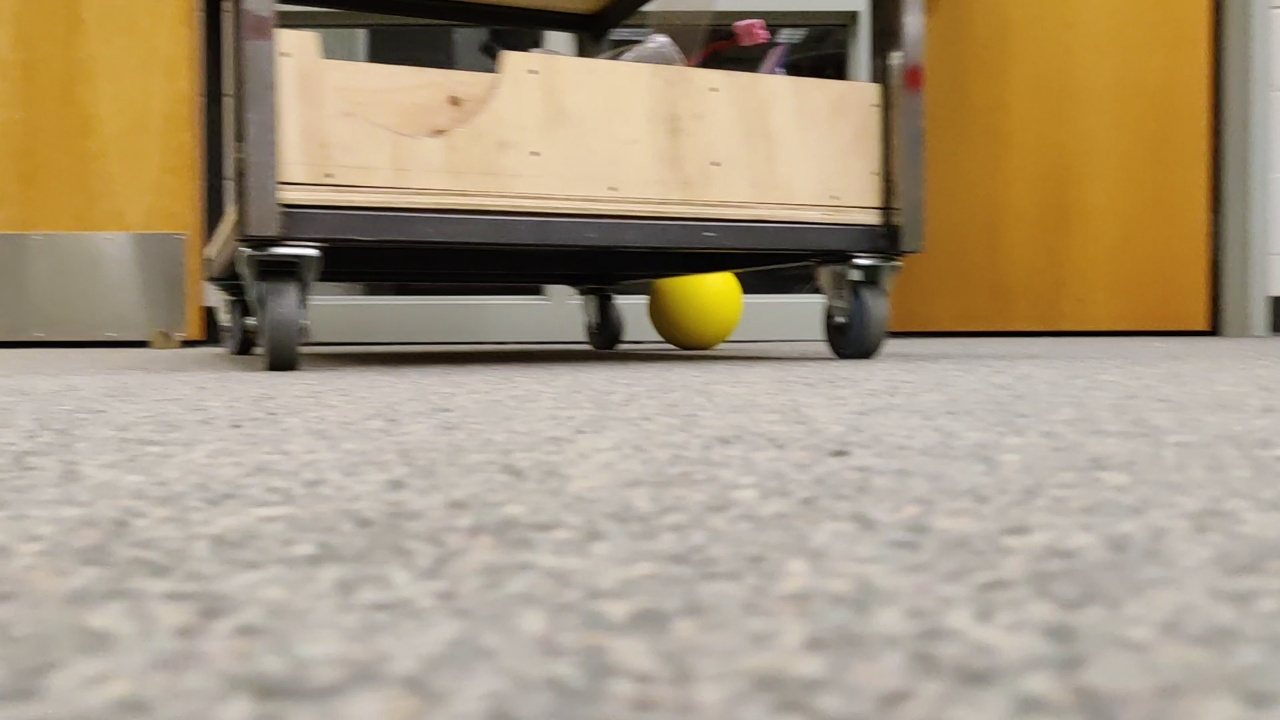Ball: (644, 269, 759, 359)
